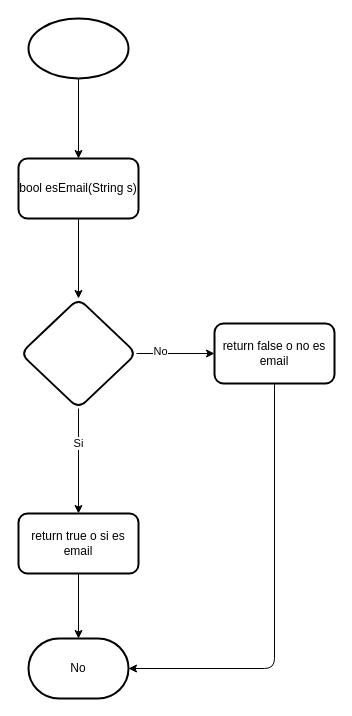
Some shapes in this 352 by 716 pixel diagram are drawn without their labels. The centre of each missing label's shape, as x and y in pixels:
"if(s.contains('@'))" belongs at point 78,353.
"Inicio" belongs at point 78,48.
